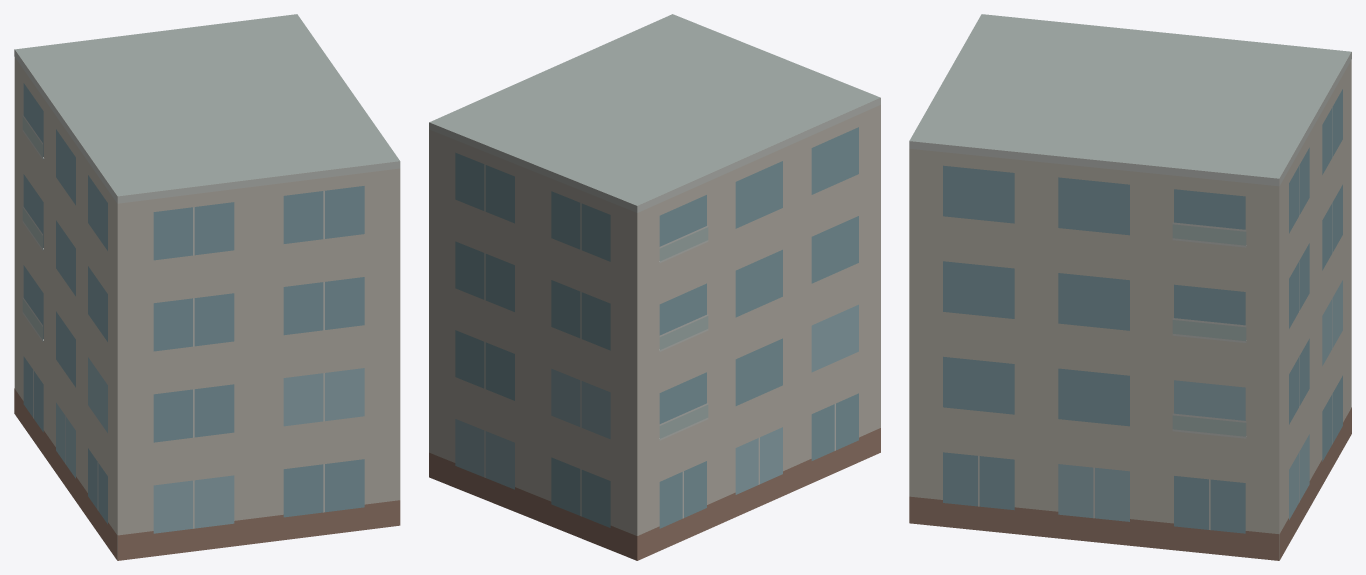
The model's file is residential-debf28b6-8be0-47e4-980b-e961d3050e56.glb.
3 views of the same model, side by side, from view 1: azimuth 30°, elevation 25°; view 2: azimuth 150°, elevation 25°; view 3: azimuth 270°, elevation 25° (orthographic). The views are drawn at different scales.
Visible parts, largest first — view 1: residential-debf28b6-8be0-47e4-980b-e961d3050e56.tmp; view 2: residential-debf28b6-8be0-47e4-980b-e961d3050e56.tmp; view 3: residential-debf28b6-8be0-47e4-980b-e961d3050e56.tmp.
Part boxes in pixels (x1,y1,x2,y2): residential-debf28b6-8be0-47e4-980b-e961d3050e56.tmp: [14, 14, 400, 560]; residential-debf28b6-8be0-47e4-980b-e961d3050e56.tmp: [429, 14, 880, 560]; residential-debf28b6-8be0-47e4-980b-e961d3050e56.tmp: [909, 14, 1351, 560].
Bounding box in the file's own units: 11.28 × 12.2 × 12.81.
